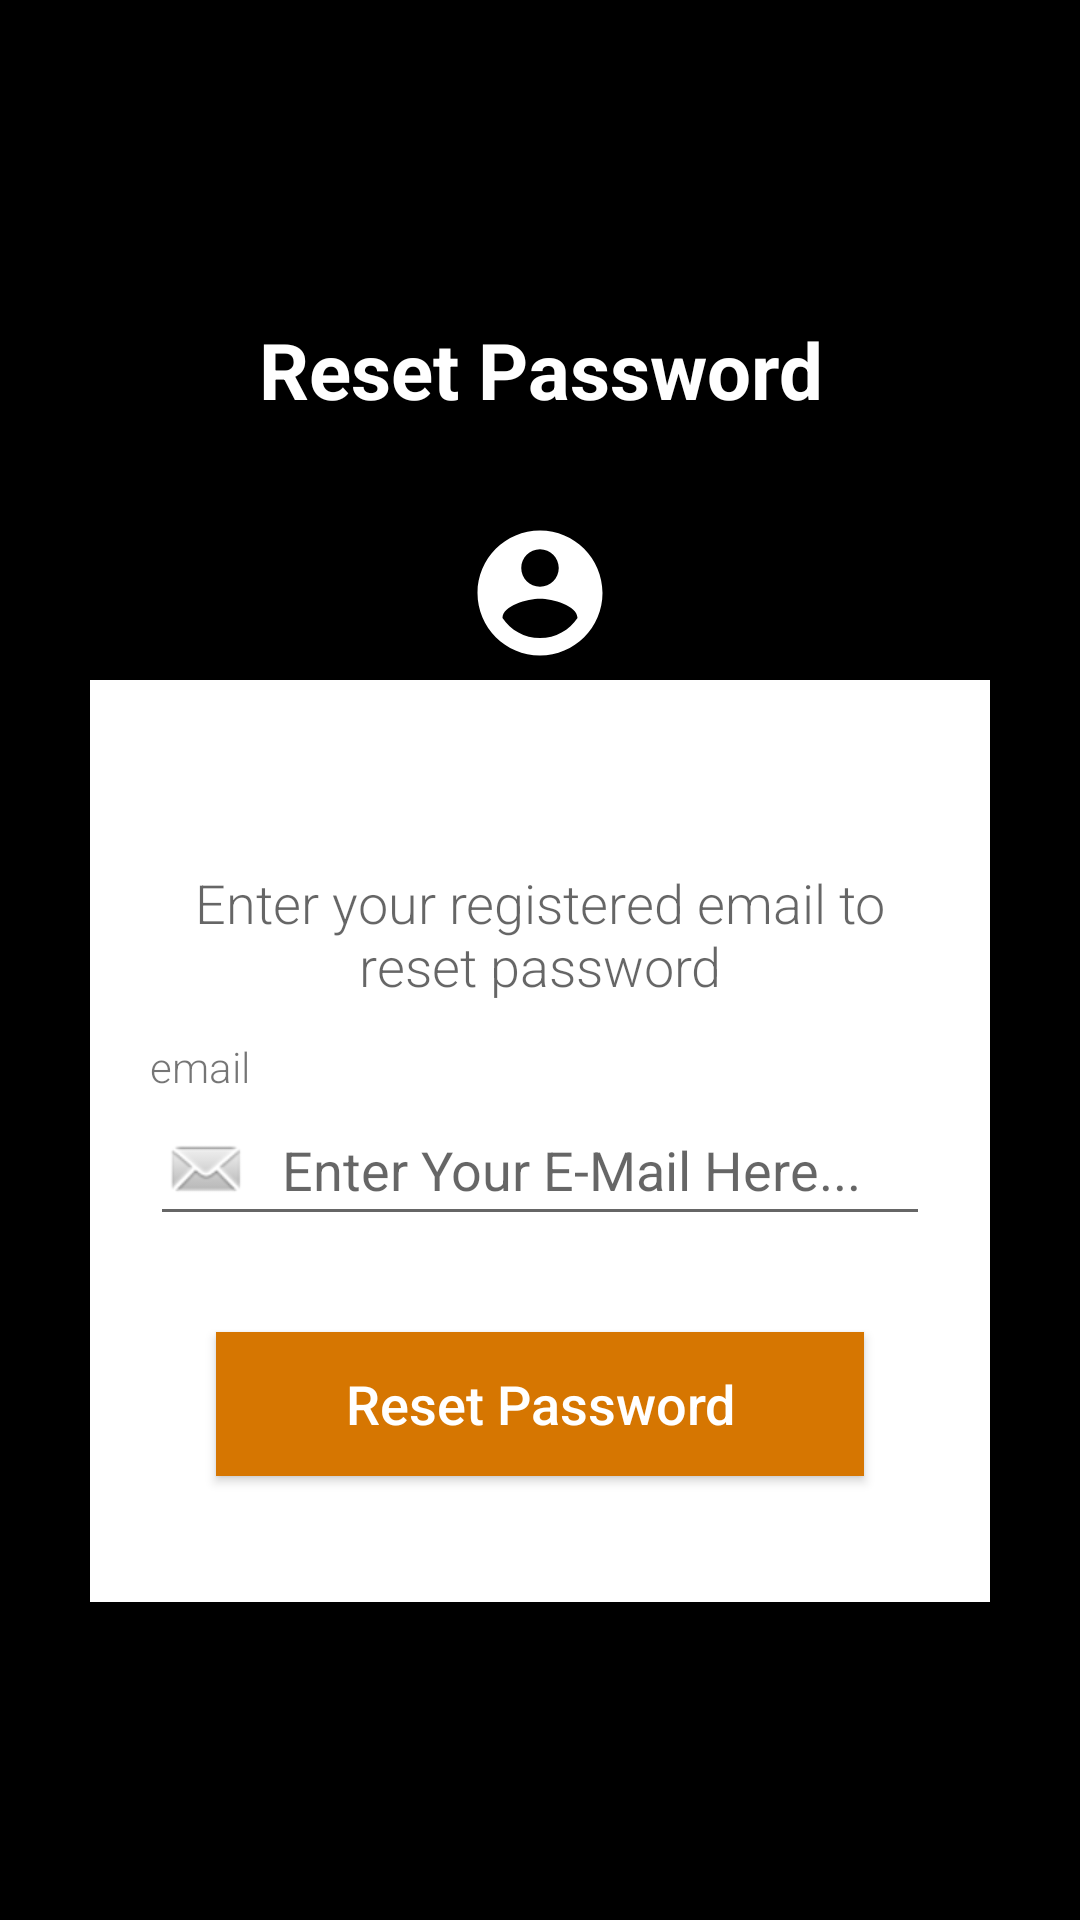

Where to tap for icons on this 1080 x 1920 app screen, as (x=x, y=y):
account circle: (x=540, y=593)
